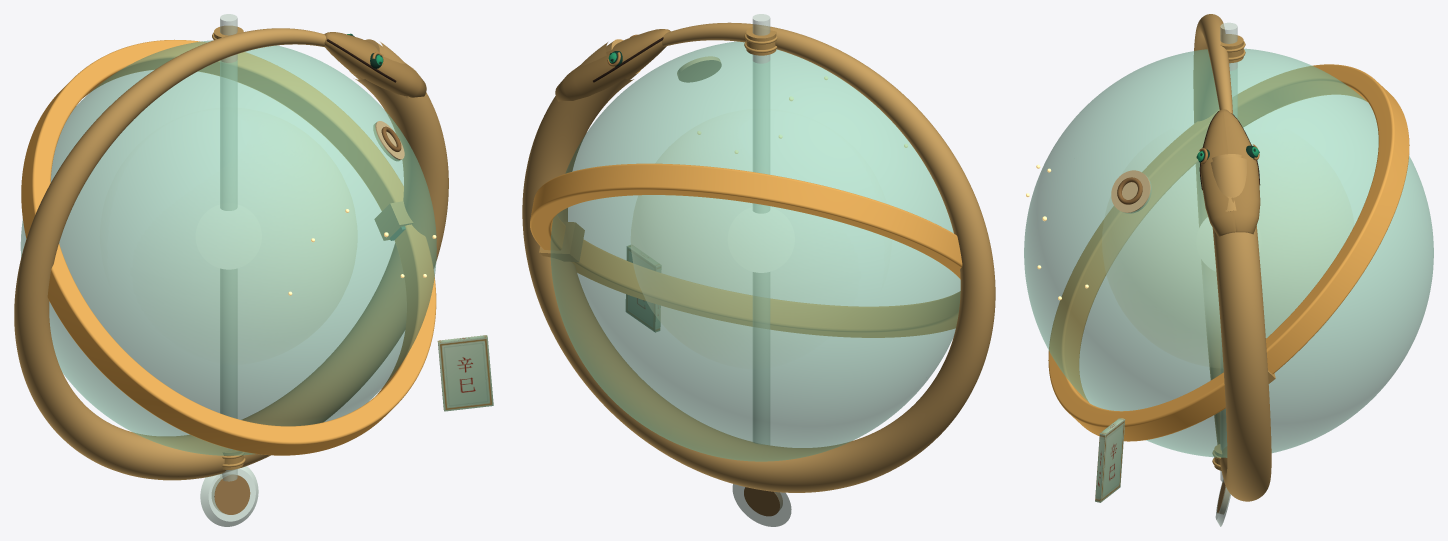
Rendered from yuheng-jade-core.glb.
3 renders of one model, left to right at view 1: azimuth 30°, elevation 25°; view 2: azimuth 150°, elevation 25°; view 3: azimuth 270°, elevation 25°, orthographic. The views are drawn at different scales.
Parts seen in each view (by area): view 1: jade-shell, serpent-body, copper-ring, axis-shaft, kernel-glow, xin-si-tablet, default-kernel, serpent-upper-jaw, base-badge, copper-vernier; view 2: jade-shell, serpent-body, copper-ring, axis-shaft, kernel-glow, default-kernel, serpent-upper-jaw, base-badge, xin-si-tablet, copper-vernier, wugu-relief, axis-collar-top; view 3: jade-shell, copper-ring, kernel-glow, serpent-body, serpent-upper-jaw, xin-si-tablet, wugu-relief, axis-shaft.
Boxes of the visible parts, <box> form: jade-shell: <box>20,40,436,455</box>; serpent-body: <box>14,28,448,480</box>; copper-ring: <box>21,39,436,455</box>; axis-shaft: <box>220,14,237,481</box>; kernel-glow: <box>299,144,357,319</box>; xin-si-tablet: <box>437,335,493,411</box>; default-kernel: <box>196,205,261,269</box>; serpent-upper-jaw: <box>324,32,426,97</box>; base-badge: <box>200,466,258,526</box>; copper-vernier: <box>374,201,412,240</box>; jade-shell: <box>550,41,960,461</box>; serpent-body: <box>522,22,995,492</box>; copper-ring: <box>530,163,962,337</box>; axis-shaft: <box>752,14,770,444</box>; kernel-glow: <box>631,147,689,323</box>; default-kernel: <box>728,207,794,272</box>; serpent-upper-jaw: <box>555,29,670,101</box>; base-badge: <box>732,484,791,526</box>; xin-si-tablet: <box>626,245,660,332</box>; copper-vernier: <box>539,222,584,261</box>; wugu-relief: <box>677,56,721,82</box>; axis-collar-top: <box>746,26,776,55</box>; jade-shell: <box>1024,48,1433,457</box>; copper-ring: <box>1048,64,1409,441</box>; kernel-glow: <box>1103,202,1352,358</box>; serpent-body: <box>1193,14,1271,501</box>; serpent-upper-jaw: <box>1200,109,1260,236</box>; xin-si-tablet: <box>1095,418,1125,502</box>; wugu-relief: <box>1111,170,1151,213</box>; axis-shaft: <box>1220,22,1237,482</box>.
Bounding box in the file's own units: 2.47 × 2.68 × 2.
20 materials, 2 textured.
